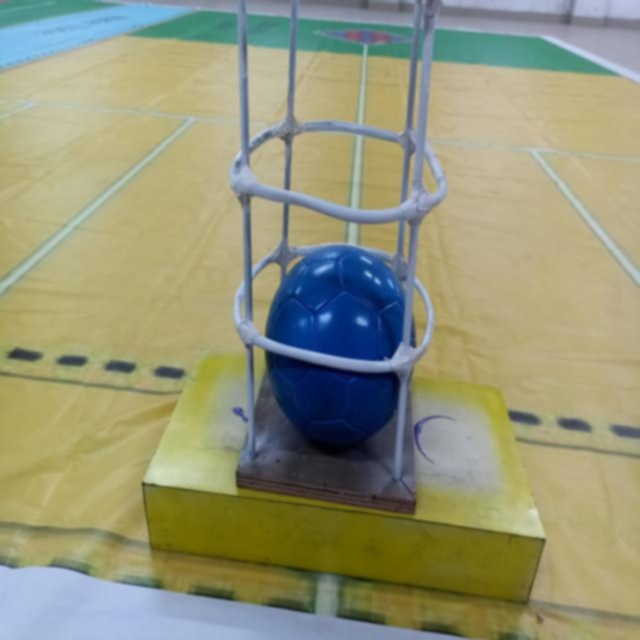blue_ball: (265, 244, 409, 438)
silo: (229, 0, 446, 517)
